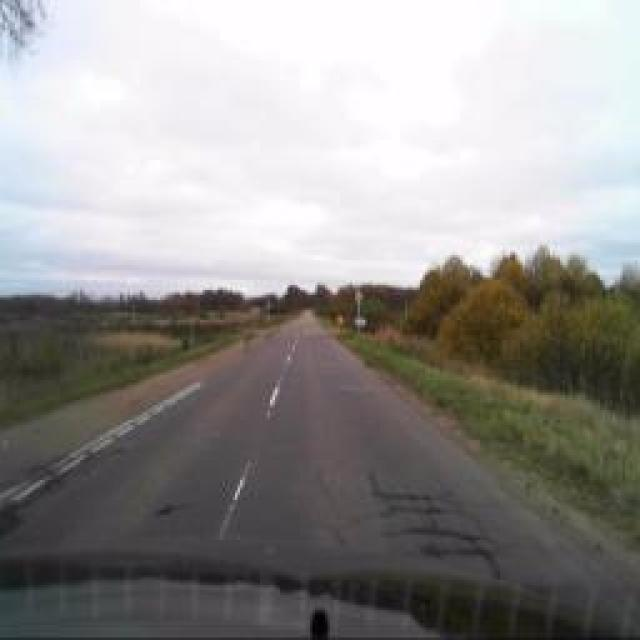sign: (354, 288, 364, 304)
